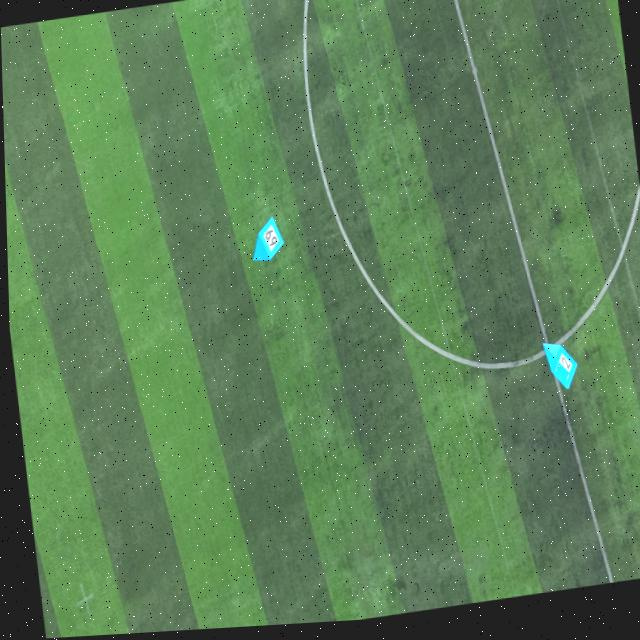board: (539, 349, 576, 397), (250, 217, 283, 265)
